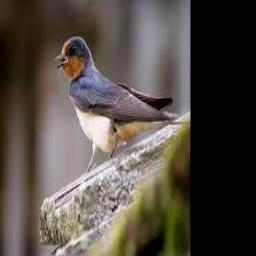Swallow: (54, 37, 178, 172)
